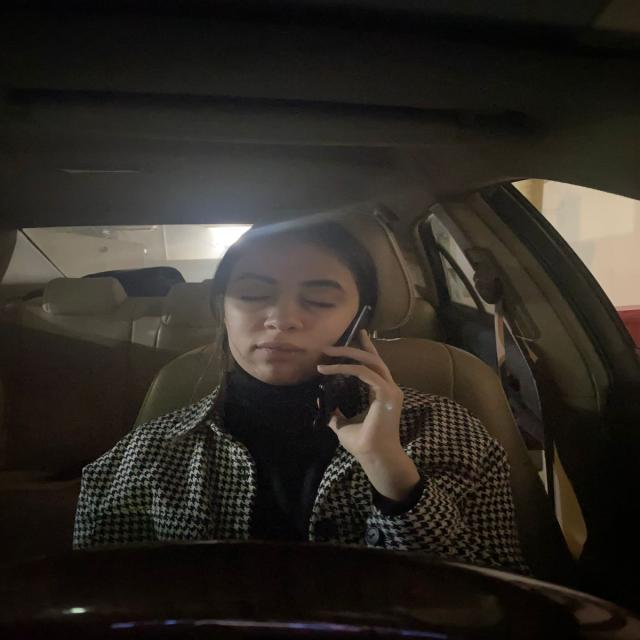phone: (317, 304, 381, 404)
